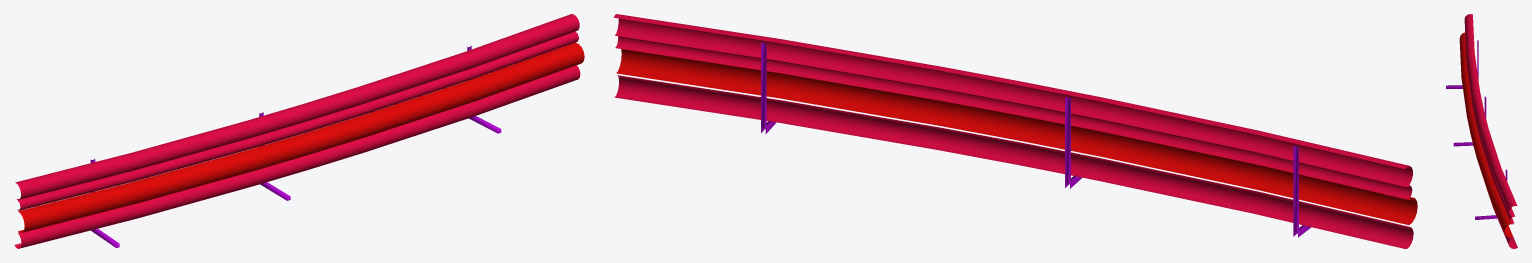
The model's file is TopSide_Triple_Pipes_bend.FBX.
3 renders of one model, left to right at view 1: azimuth 30°, elevation 25°; view 2: azimuth 150°, elevation 25°; view 3: azimuth 270°, elevation 25°, orthographic. The views are drawn at different scales.
Parts seen in each view (by area): view 1: TopSide_Triple_Pipes_Bend; view 2: TopSide_Triple_Pipes_Bend; view 3: TopSide_Triple_Pipes_Bend.
Part boxes in pixels (x1,y1,x2,y2): TopSide_Triple_Pipes_Bend: (14, 14, 584, 248); TopSide_Triple_Pipes_Bend: (613, 14, 1417, 248); TopSide_Triple_Pipes_Bend: (1446, 14, 1517, 248).
Bounding box in the file's own units: 4.28 × 0.4909 × 0.6749.
